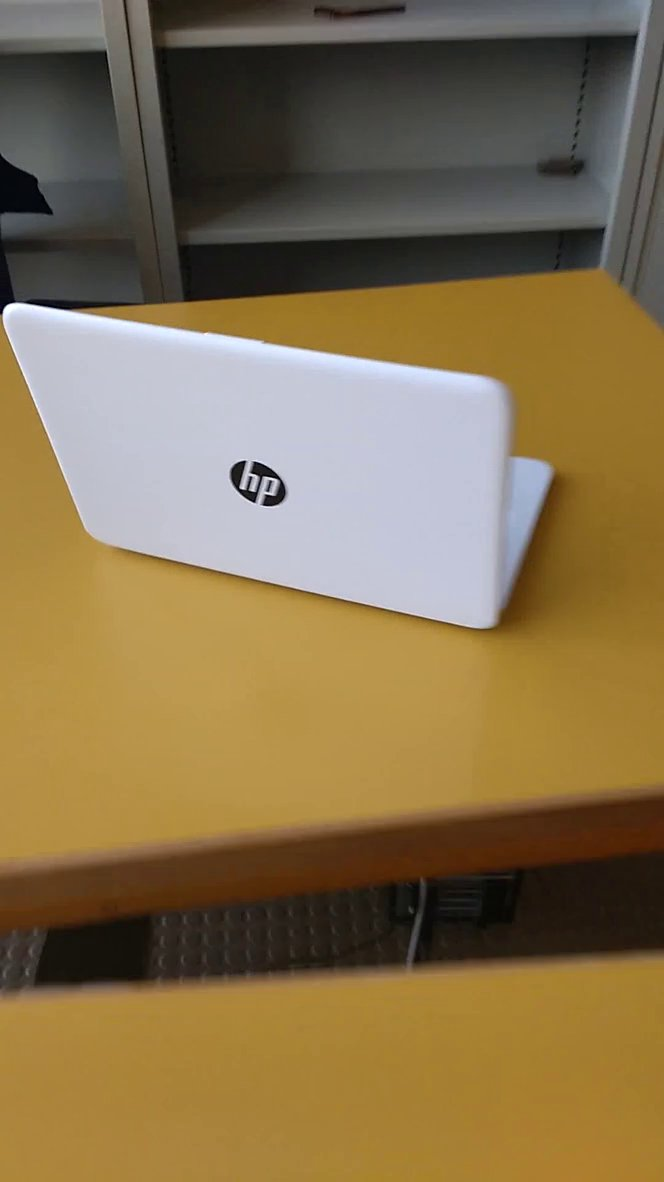laptop: (3, 283, 566, 640)
